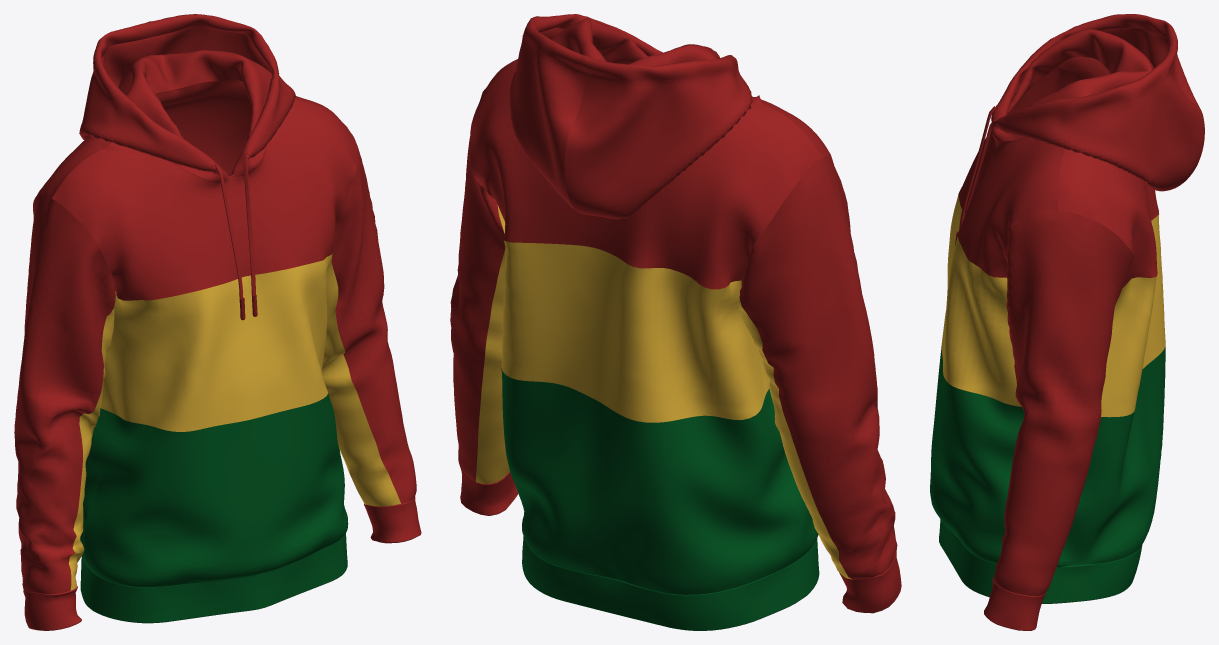
Rendered from Front End 3d file.glb.
3 views of the same model, side by side, from view 1: azimuth 30°, elevation 25°; view 2: azimuth 150°, elevation 25°; view 3: azimuth 270°, elevation 25° (orthographic). The views are drawn at different scales.
Parts seen in each view (by area): view 1: Body_Front_3_1, Body_Front_2_1, Body_Front_4_1, Sleeves_9_1, Sleeves_6_1, Pattern_1010407_1, 甯界墖_1, Sleeves_4_1, 甯界墖_瀵圭О_3_2, Body_Back_3_2, 甯界墖_瀵圭О_3_1, 甯界墖_2 (+6 smaller); view 2: Body_Back_2_1, Sleeves_9_1, Body_Back_4_1, Body_Back_3_1, 甯界墖_1, Sleeves_6_1, Pattern_1010408_1, 甯界墖_瀵圭О_3_1, Sleeves_5_1, 甯界墖_瀵圭О_3_2, Sleeves_8_1, Pattern_577027_1 (+5 smaller); view 3: Sleeves_6_1, 甯界墖_瀵圭О_3_1, Body_Back_2_1, Body_Front_3_1, Body_Front_4_1, Body_Front_2_1, Body_Back_3_1, Body_Back_4_1, 甯界墖_2, Pattern_1010408_1, 甯界墖_1, Pattern_577026_1 (+4 smaller).
Part boxes in pixels (x1,y1,x2,y2): Body_Front_3_1: (84, 393, 348, 587); Body_Front_2_1: (51, 99, 356, 300); Body_Front_4_1: (101, 253, 332, 431); Sleeves_9_1: (14, 194, 115, 594); Sleeves_6_1: (331, 127, 416, 503); Pattern_1010407_1: (89, 533, 347, 622); 甯界墖_1: (79, 21, 230, 182); Sleeves_4_1: (321, 261, 400, 506); 甯界墖_瀵圭О_3_2: (151, 26, 272, 175); Body_Back_3_2: (156, 80, 251, 175); 甯界墖_瀵圭О_3_1: (149, 14, 295, 175); 甯界墖_2: (101, 37, 230, 176); Body_Back_2_1: (501, 368, 801, 594); Sleeves_9_1: (739, 154, 897, 579); Body_Back_4_1: (501, 240, 765, 422); Body_Back_3_1: (470, 59, 823, 289); 甯界墖_1: (564, 55, 752, 219); Sleeves_6_1: (450, 136, 505, 481); Pattern_1010408_1: (522, 536, 801, 630); 甯界墖_瀵圭О_3_1: (509, 14, 662, 209); Sleeves_5_1: (476, 205, 509, 483); 甯界墖_瀵圭О_3_2: (540, 18, 647, 64); Sleeves_8_1: (739, 300, 851, 579); Pattern_577027_1: (839, 549, 901, 612); Sleeves_6_1: (993, 209, 1134, 596); 甯界墖_瀵圭О_3_1: (992, 46, 1204, 191); Body_Back_2_1: (1057, 346, 1165, 567); Body_Front_3_1: (930, 346, 1024, 563); Body_Front_4_1: (941, 194, 1021, 406); Body_Front_2_1: (958, 131, 1064, 277); Body_Back_3_1: (1058, 149, 1158, 287); Body_Back_4_1: (1101, 214, 1165, 417); 甯界墖_2: (1007, 27, 1168, 113); Pattern_1010408_1: (1042, 545, 1142, 603); 甯界墖_1: (991, 14, 1203, 121); Pattern_577026_1: (984, 580, 1045, 630).
Size of the model in its own units: 0.9039 by 1.15 by 0.5587.
Materials: 20 (5 with a texture image).
